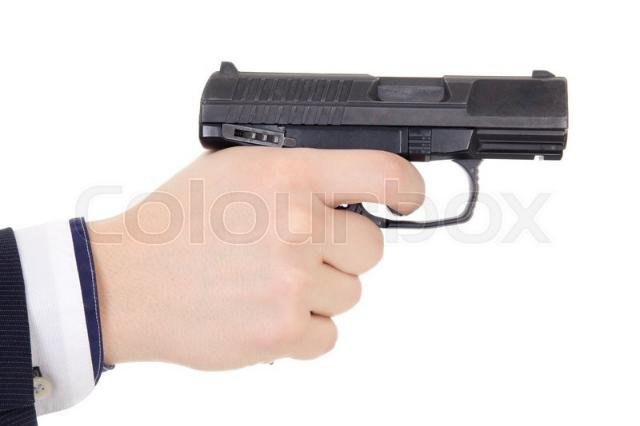handgun: (192, 58, 572, 368)
